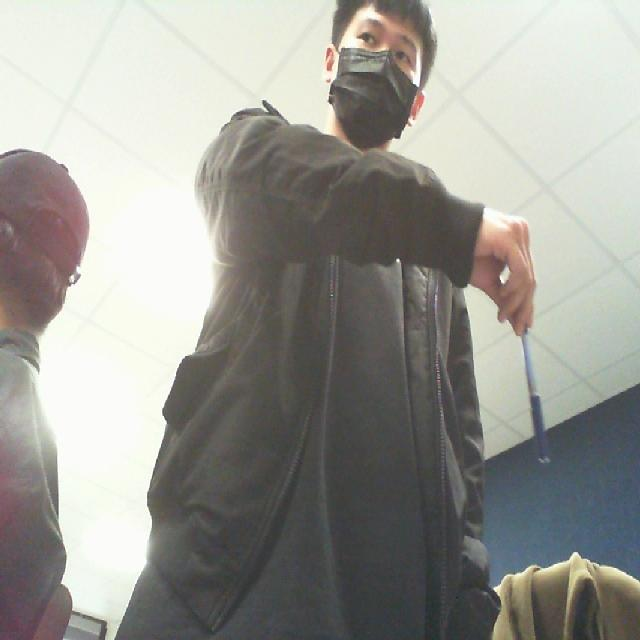Pen: (497, 301, 568, 482)
